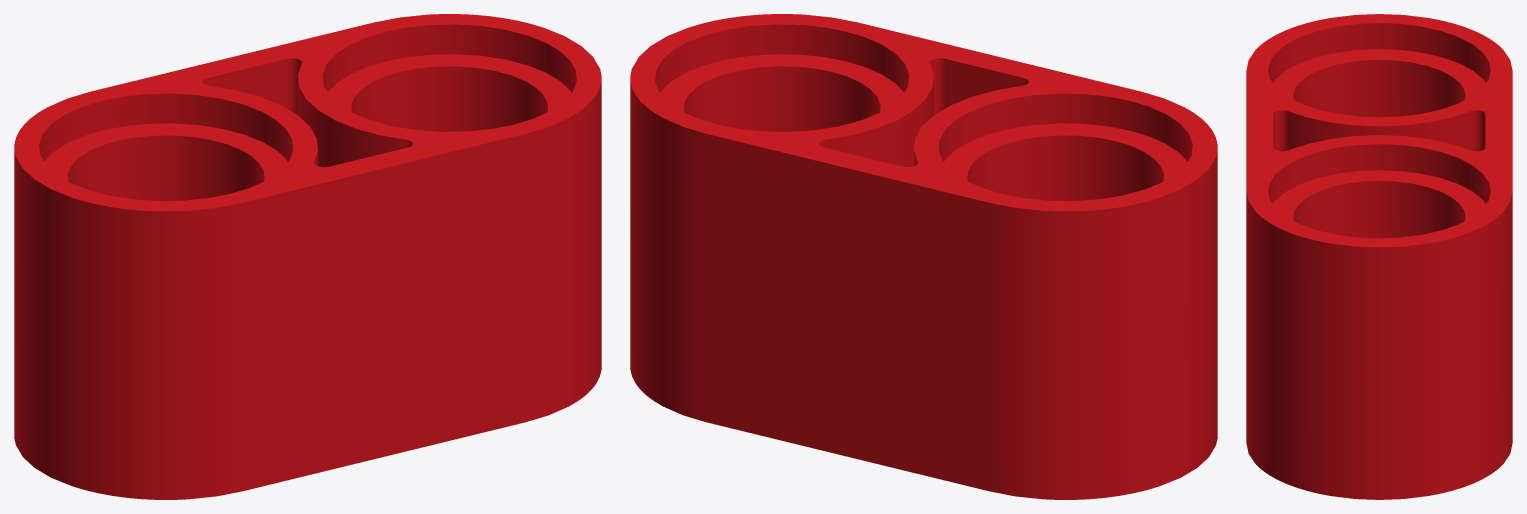
File: Beam_2.glb
3 renders of one model, left to right at view 1: azimuth 30°, elevation 25°; view 2: azimuth 150°, elevation 25°; view 3: azimuth 270°, elevation 25°, orthographic. The views are drawn at different scales.
Parts seen in each view (by area): view 1: 1001.dat; view 2: 1001.dat; view 3: 1001.dat.
Part boxes in pixels (box(x1,y1,x2,y2)): 1001.dat: box(14, 14, 601, 499); 1001.dat: box(630, 14, 1217, 499); 1001.dat: box(1246, 14, 1512, 499).
Bounding box in the file's own units: 5.15 × 2.6 × 2.48.
